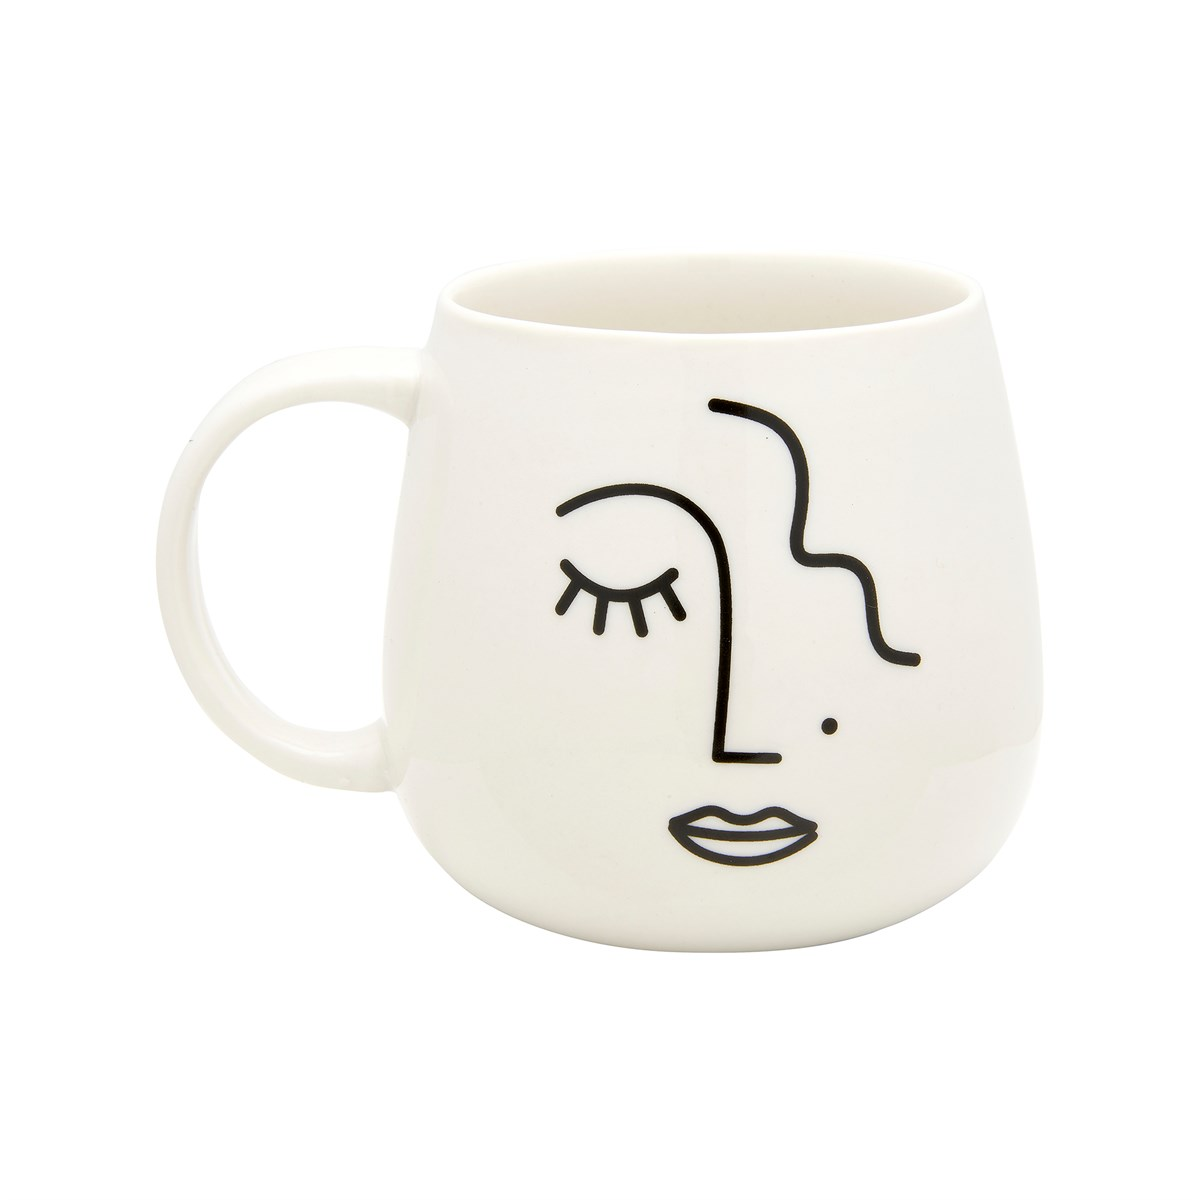gelas: (137, 174, 1105, 1033)
